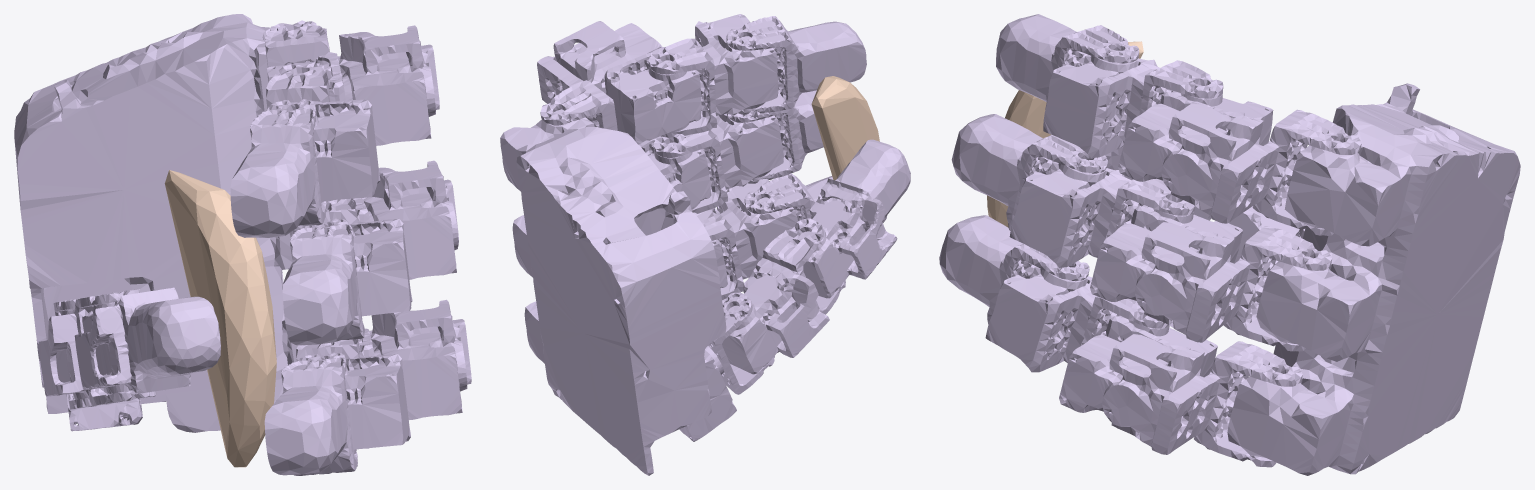
File: ffef289a4e1da7-final.glb
3 views of the same model, side by side, from view 1: azimuth 30°, elevation 25°; view 2: azimuth 150°, elevation 25°; view 3: azimuth 270°, elevation 25° (orthographic). The views are drawn at different scales.
Parts seen in each view (by area): view 1: LEAP_hand, world; view 2: LEAP_hand, world; view 3: LEAP_hand, world.
Boxes of the visible parts, x1,y1,x2,y2 form: LEAP_hand: [14, 14, 471, 475]; world: [164, 170, 276, 467]; LEAP_hand: [500, 14, 910, 475]; world: [811, 76, 879, 180]; LEAP_hand: [939, 14, 1520, 475]; world: [987, 41, 1143, 227].
Size of the model in its own units: 0.149 by 0.1531 by 0.2014.
